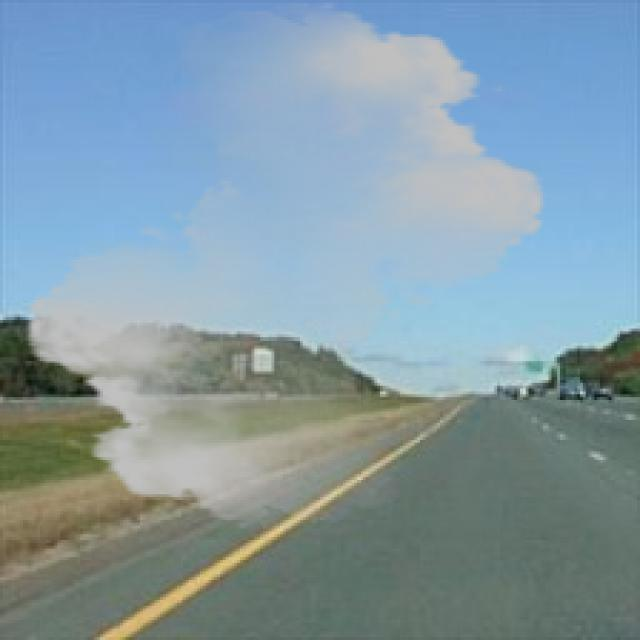smoke: (8, 3, 563, 528)
